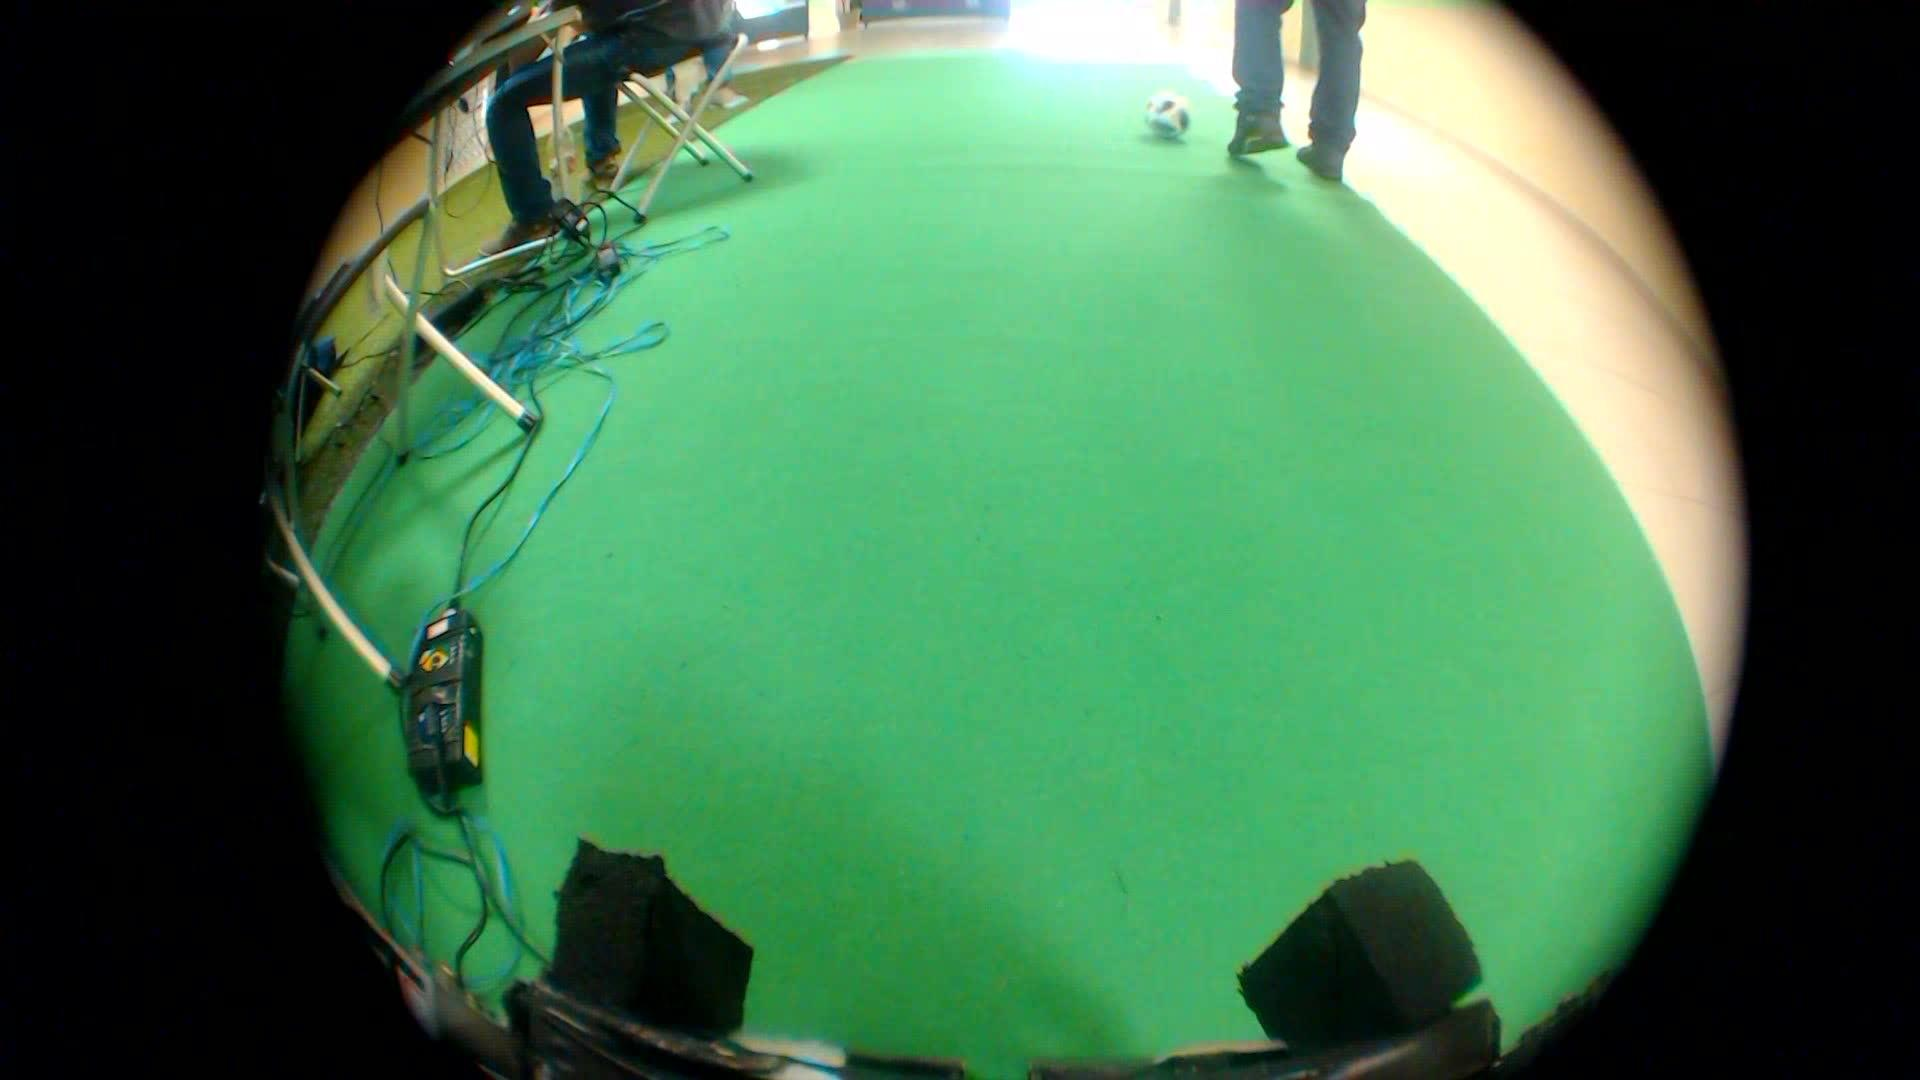ball: (1139, 84, 1200, 156)
